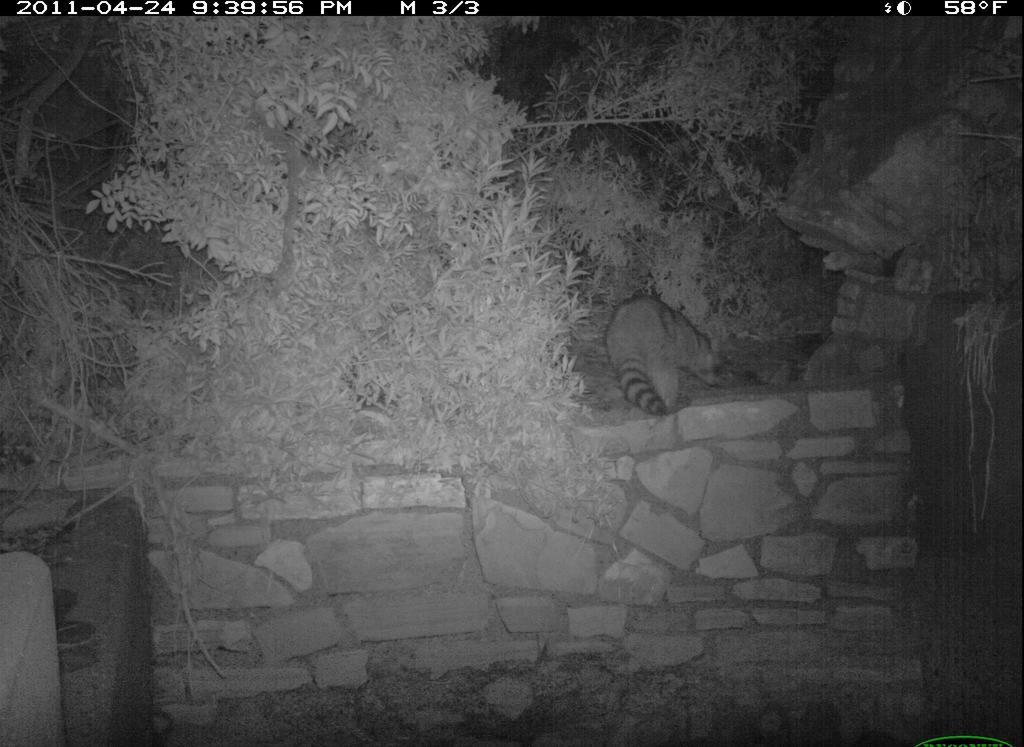raccoon: (591, 276, 749, 432)
